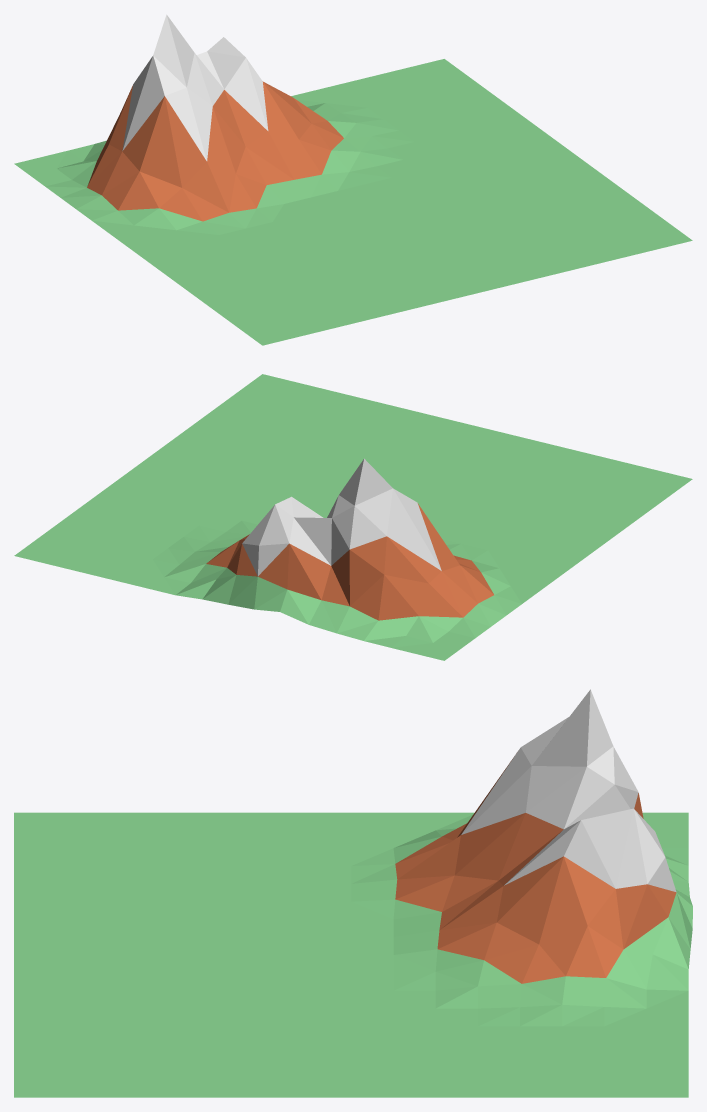
File: Mountain.fbx
3 renders of one model, top to bottom at view 1: azimuth 30°, elevation 25°; view 2: azimuth 150°, elevation 25°; view 3: azimuth 270°, elevation 25°, orthographic. The views are drawn at different scales.
Visible parts, largest first — view 1: Mountain; view 2: Mountain; view 3: Mountain.
Boxes of the visible parts, left/top/right/bottom form: Mountain: left=14, top=14, right=692, bottom=345; Mountain: left=14, top=374, right=692, bottom=660; Mountain: left=14, top=689, right=692, bottom=1097.
Size of the model in its own units: 1180 by 387 by 1187.
